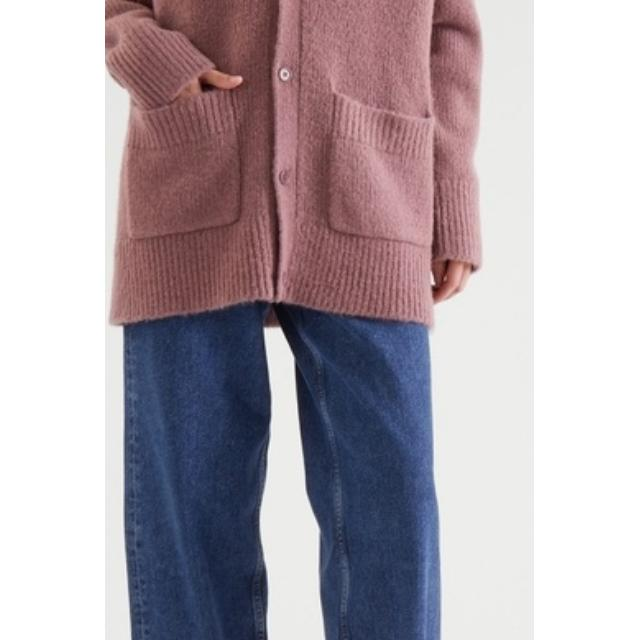denim: (106, 1, 486, 326)
